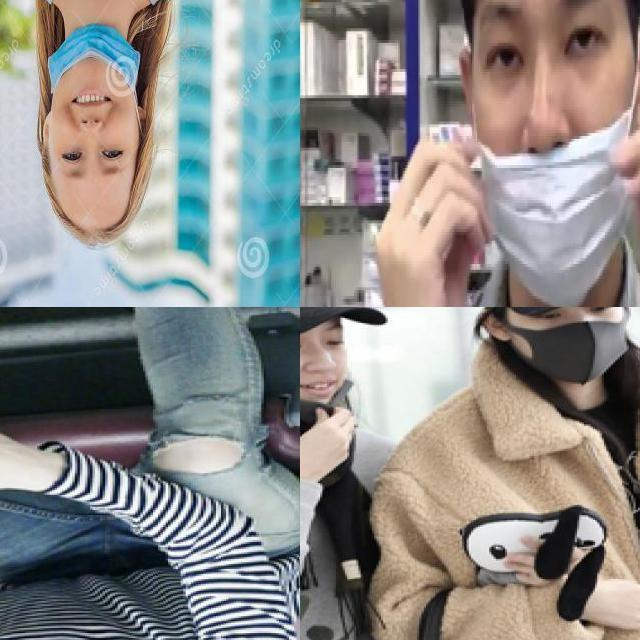hairnet: (463, 0, 640, 302), (37, 14, 162, 133), (300, 321, 371, 418)
mask: (484, 312, 636, 391)
no_apron: (367, 131, 496, 308), (301, 404, 362, 491)
no_gloves: (42, 157, 155, 248)
